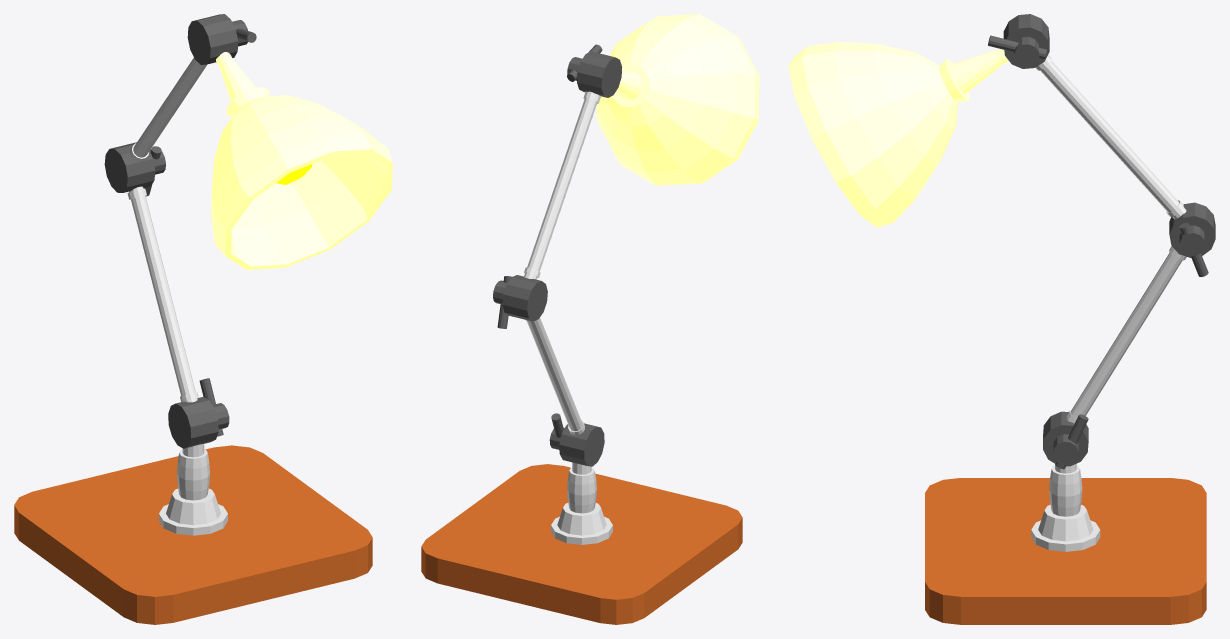
File: lamp.glb
3 renders of one model, left to right at view 1: azimuth 30°, elevation 25°; view 2: azimuth 150°, elevation 25°; view 3: azimuth 270°, elevation 25°, orthographic. The views are drawn at different scales.
Visible parts, largest first — view 1: Cube, Cylinder.006, Cylinder, Cylinder.004, Cylinder.003, Cylinder.002, Cylinder.001, Cylinder.005; view 2: Cube, Cylinder.006, Cylinder, Cylinder.005, Cylinder.001, Cylinder.002, Cylinder.003, Cylinder.004; view 3: Cube, Cylinder.006, Cylinder, Cylinder.005, Cylinder.004, Cylinder.002, Cylinder.001, Cylinder.003.
Boxes of the visible parts, x1,y1,x2,y2 form: Cube: [14, 445, 372, 624]; Cylinder.006: [211, 52, 392, 269]; Cylinder: [159, 444, 227, 535]; Cylinder.004: [127, 186, 198, 402]; Cylinder.003: [168, 378, 229, 448]; Cylinder.002: [187, 14, 256, 64]; Cylinder.001: [104, 142, 165, 196]; Cylinder.005: [130, 58, 207, 161]; Cube: [421, 464, 742, 624]; Cylinder.006: [596, 14, 759, 185]; Cylinder: [551, 462, 612, 544]; Cylinder.005: [524, 91, 600, 279]; Cylinder.001: [493, 275, 547, 328]; Cylinder.002: [567, 44, 622, 97]; Cylinder.003: [549, 413, 604, 466]; Cylinder.004: [526, 318, 584, 435]; Cube: [925, 478, 1206, 624]; Cylinder.006: [788, 42, 1008, 227]; Cylinder: [1031, 464, 1100, 551]; Cylinder.005: [1035, 54, 1186, 219]; Cylinder.004: [1066, 246, 1186, 423]; Cylinder.002: [988, 14, 1049, 68]; Cylinder.001: [1169, 202, 1215, 276]; Cylinder.003: [1043, 411, 1088, 469].
Size of the model in its own units: 0.3431 by 0.7316 by 0.5204.
